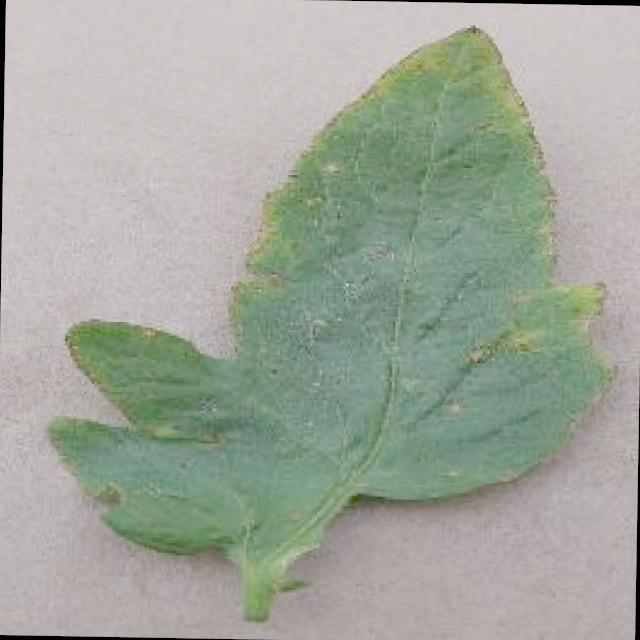Tomato bacterial spot leaf: (42, 10, 622, 583)
